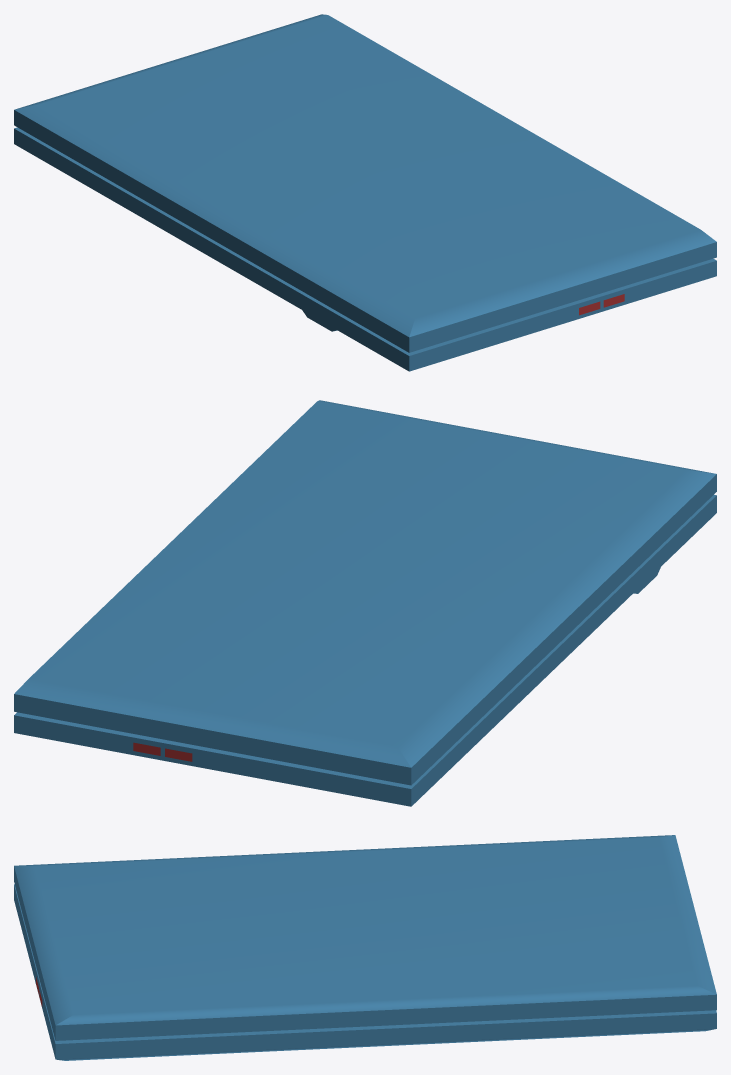
File: notebook.fbx
3 renders of one model, top to bottom at view 1: azimuth 30°, elevation 25°; view 2: azimuth 150°, elevation 25°; view 3: azimuth 270°, elevation 25°, orthographic. The views are drawn at different scales.
Visible parts, largest first — view 1: noteboob; view 2: noteboob; view 3: noteboob.
Boxes of the visible parts, <box> form: noteboob: <box>14,14,716,371</box>; noteboob: <box>14,400,716,806</box>; noteboob: <box>14,835,716,1060</box>.
Size of the model in its own units: 0.237 by 0.0268 by 0.3698.
